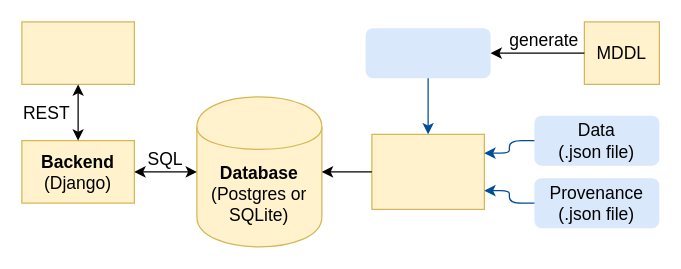
The diagram is 681 pixels wide and 269 high, and some of its shapes have lost their labels. The centre of each missing label's shape, as x and y in pixels:
"Frontend (React)" goes at point (77, 52).
"Importer" goes at point (427, 171).
"Schema (.json file)" goes at point (427, 53).
